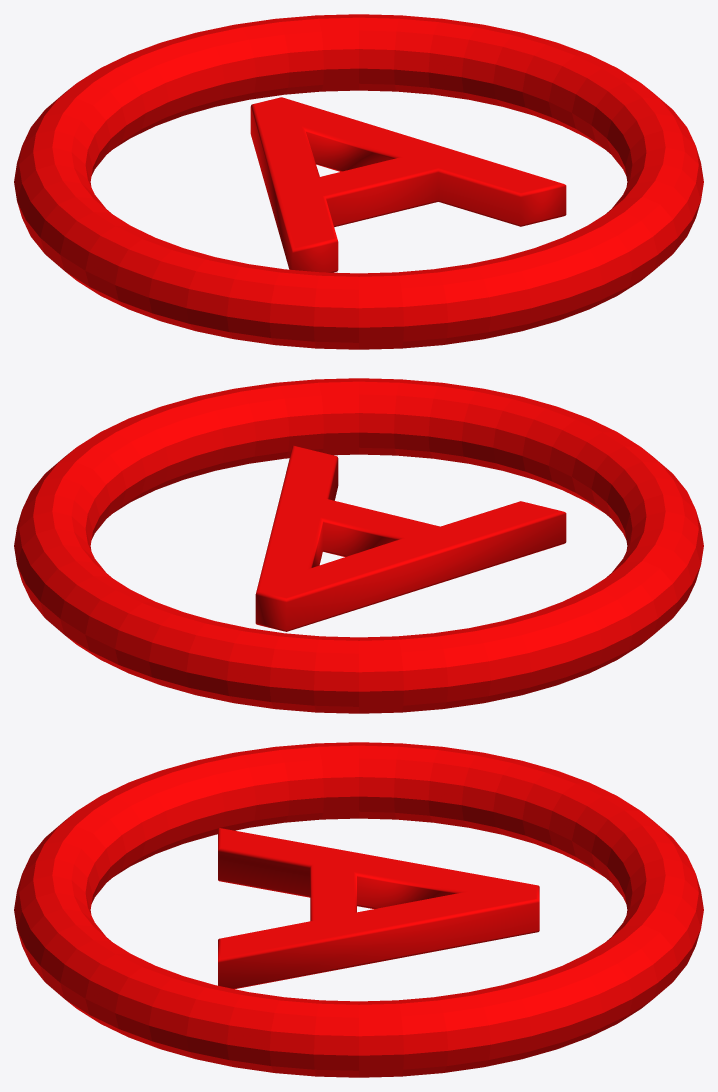
The model's file is EmptyRedCircleWith_A.glb.
3 views of the same model, one above another, from view 1: azimuth 30°, elevation 25°; view 2: azimuth 150°, elevation 25°; view 3: azimuth 270°, elevation 25° (orthographic).
Parts seen in each view (by area): view 1: Ring, ABSA_Text; view 2: Ring, ABSA_Text; view 3: Ring, ABSA_Text.
Boxes of the visible parts, x1,y1,x2,y2 form: Ring: (14,14,703,349); ABSA_Text: (250,97,566,272); Ring: (14,378,703,713); ABSA_Text: (255,445,566,631); Ring: (14,742,703,1077); ABSA_Text: (218,828,539,988).
Size of the model in its own units: 4.5 by 0.5 by 4.5.
